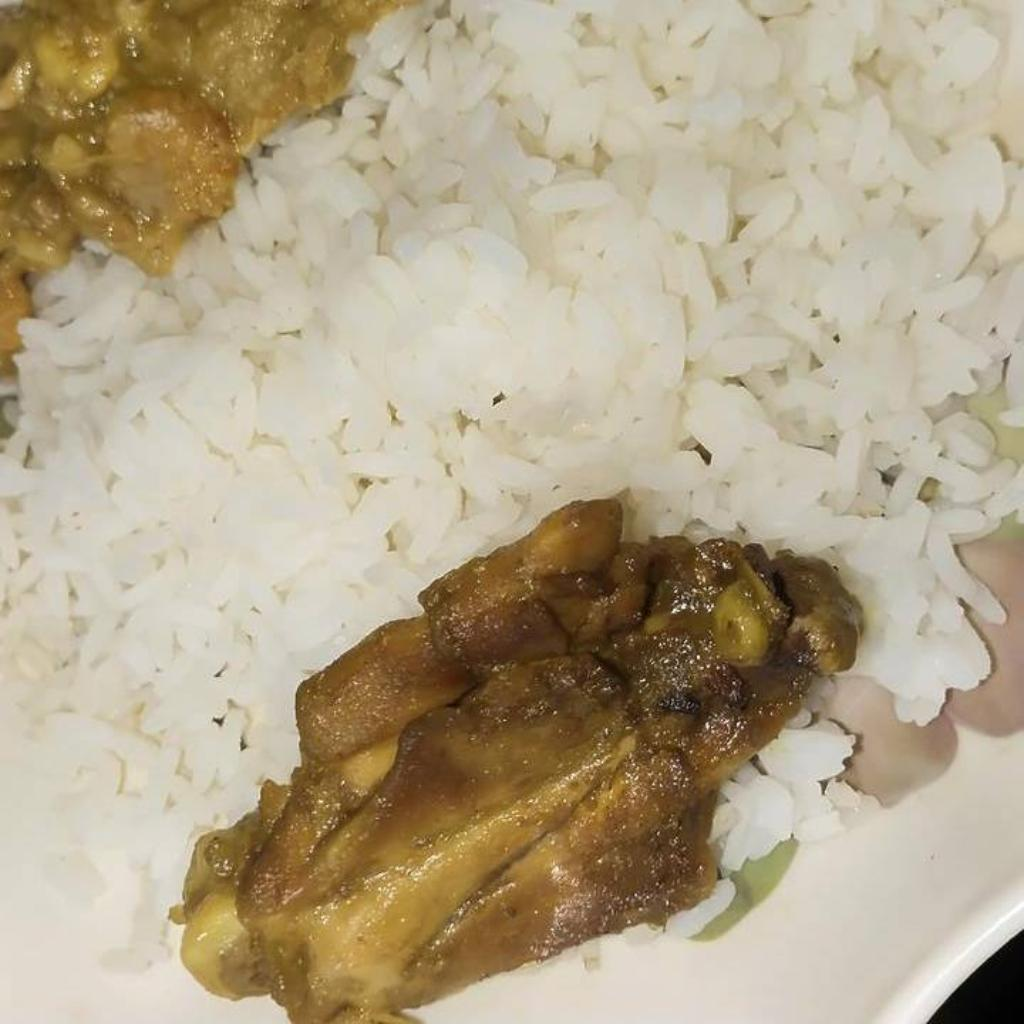achar: (0, 4, 382, 308)
chicken: (169, 497, 859, 1023)
rice: (0, 4, 1023, 812)
